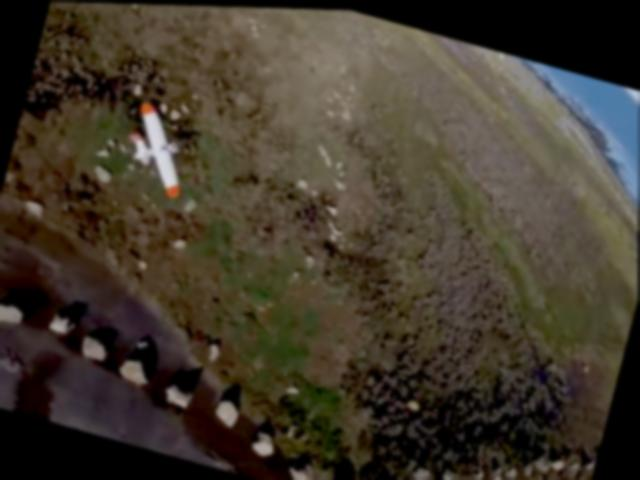uav: (115, 97, 201, 197)
